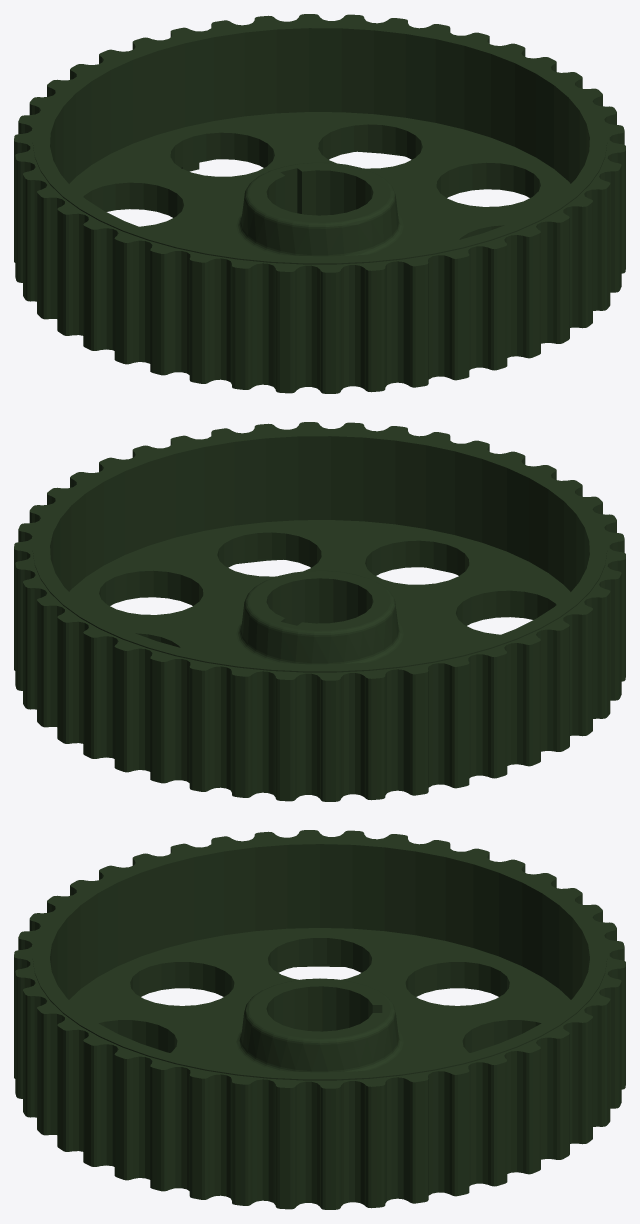
File: Шкив выпускного распредвала.obj
The picture shows the model from 3 angles, top to bottom: view 1: azimuth 30°, elevation 25°; view 2: azimuth 150°, elevation 25°; view 3: azimuth 270°, elevation 25°; orthographic projection.
Parts seen in each view (by area): view 1: Шкив_выпускного_распредвала; view 2: Шкив_выпускного_распредвала; view 3: Шкив_выпускного_распредвала.
Part boxes in pixels (left/top/right/bottom): Шкив_выпускного_распредвала: left=14, top=14, right=625, bottom=393; Шкив_выпускного_распредвала: left=14, top=422, right=625, bottom=801; Шкив_выпускного_распредвала: left=14, top=830, right=625, bottom=1209.
Bounding box in the file's own units: 126 × 29.5 × 126.
